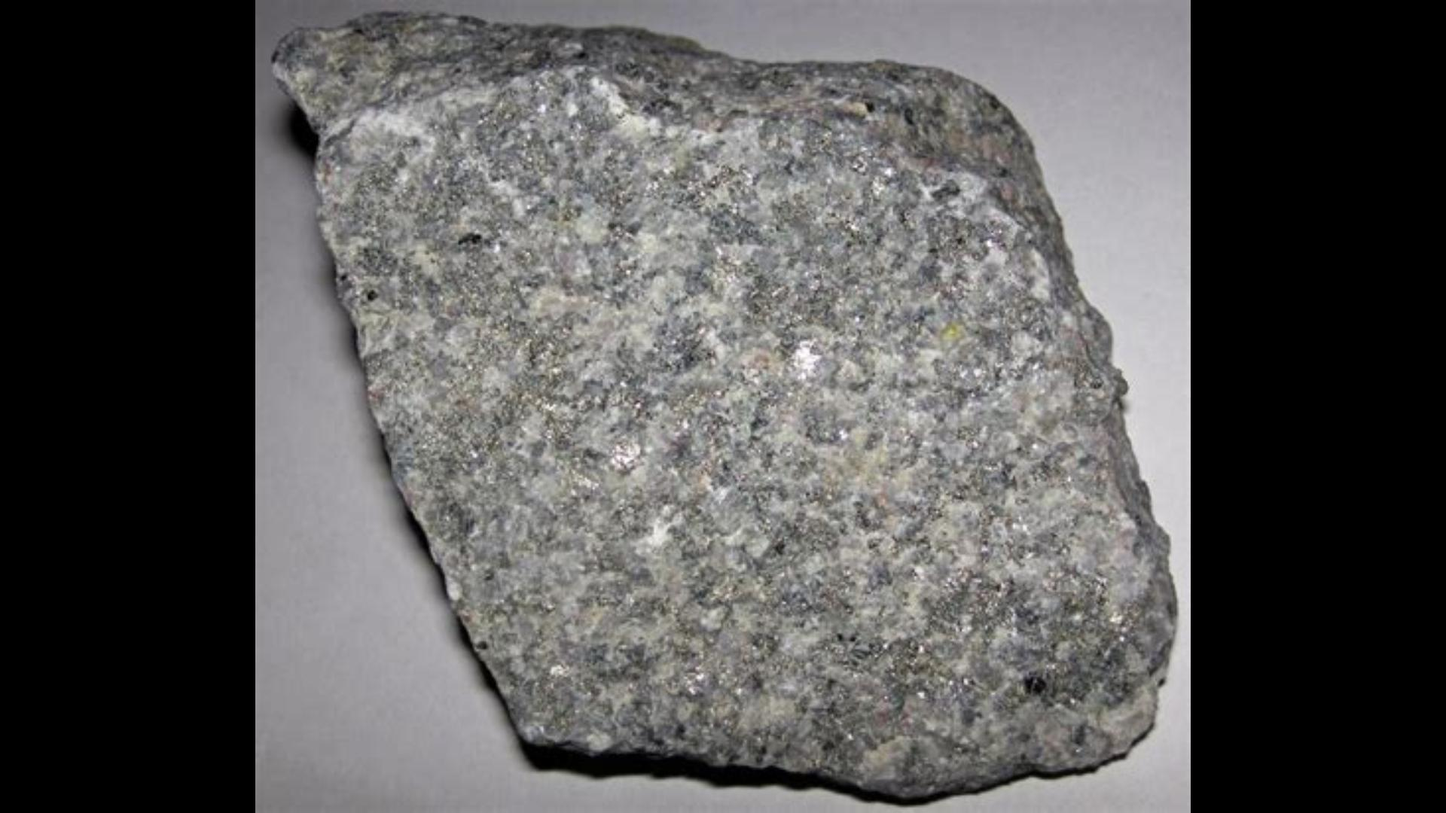rock: (275, 16, 1165, 797)
